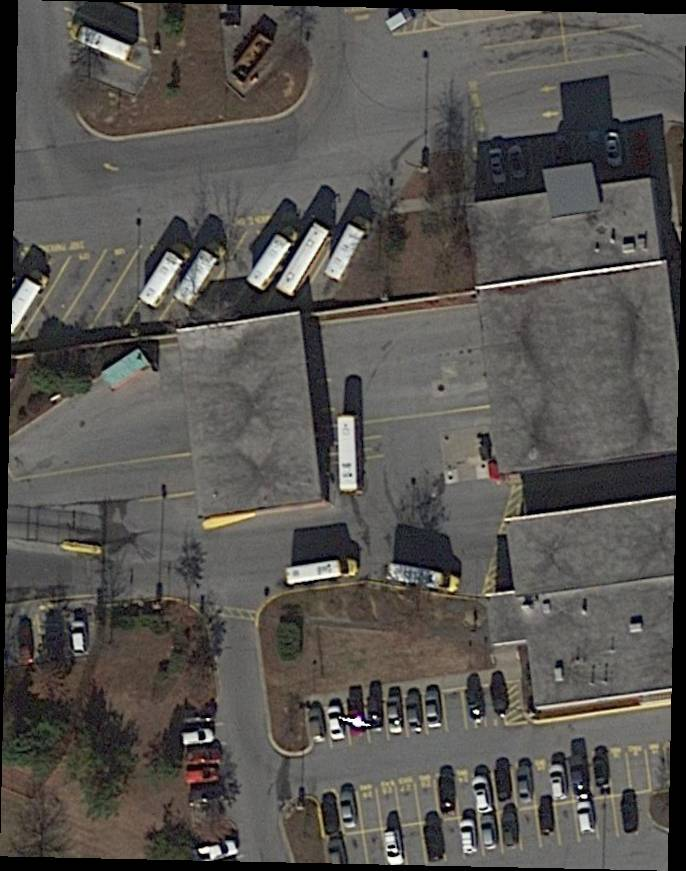large vehicle: (271, 215, 337, 303), (172, 236, 235, 309), (136, 242, 196, 312), (64, 14, 141, 65), (248, 222, 303, 293), (322, 213, 375, 285), (384, 559, 461, 595), (283, 553, 359, 587), (336, 412, 364, 492)
small vehicle: (526, 139, 558, 188), (42, 601, 66, 665), (596, 128, 629, 172), (626, 124, 656, 170), (15, 612, 39, 668), (468, 768, 496, 816), (490, 756, 517, 804), (462, 681, 490, 727), (573, 799, 600, 846), (505, 140, 533, 185), (195, 837, 241, 864), (487, 667, 510, 721), (177, 743, 226, 768), (615, 792, 642, 837), (549, 130, 576, 174), (485, 141, 511, 186), (437, 764, 459, 816), (318, 793, 344, 837), (569, 754, 592, 803), (345, 693, 369, 739), (338, 788, 362, 834), (177, 697, 219, 723), (533, 800, 560, 839), (422, 820, 446, 863), (590, 752, 611, 799), (512, 764, 536, 805), (547, 762, 572, 801), (479, 814, 502, 856), (179, 723, 219, 747), (383, 827, 407, 866), (326, 703, 348, 744), (457, 816, 479, 856), (424, 691, 446, 731), (386, 694, 406, 737), (183, 766, 223, 787), (406, 693, 426, 735), (69, 621, 92, 655), (367, 692, 386, 733), (501, 812, 519, 850), (307, 707, 325, 744), (188, 790, 223, 809)
